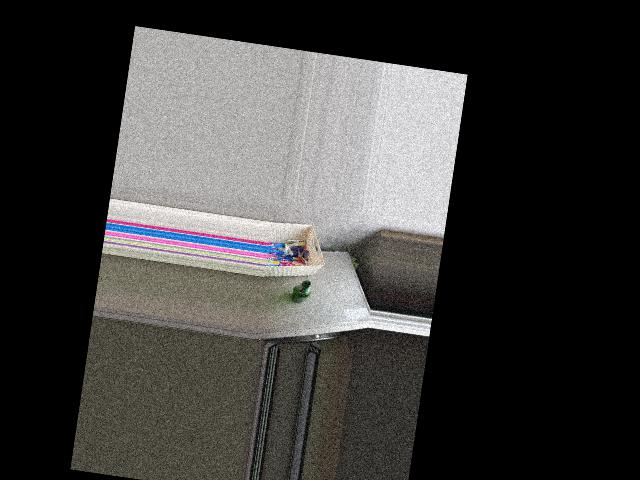beer: (290, 279, 311, 304)
